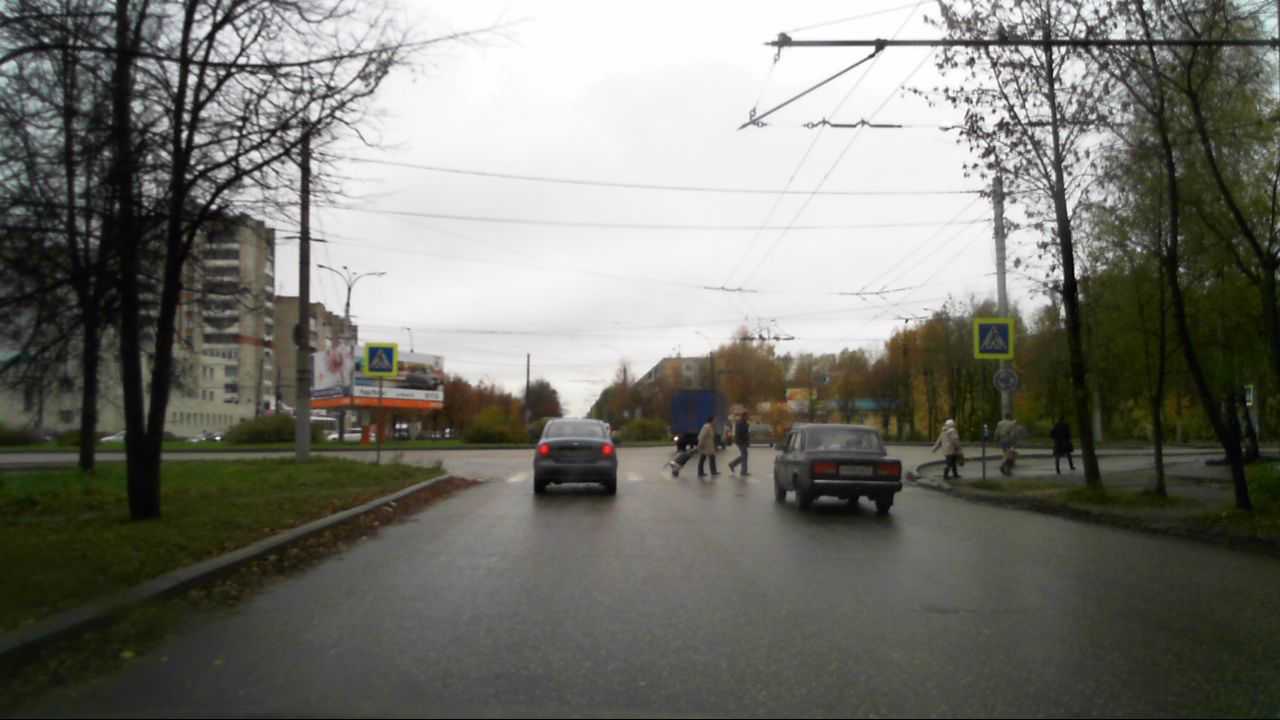Round-About: (993, 367, 1018, 392)
